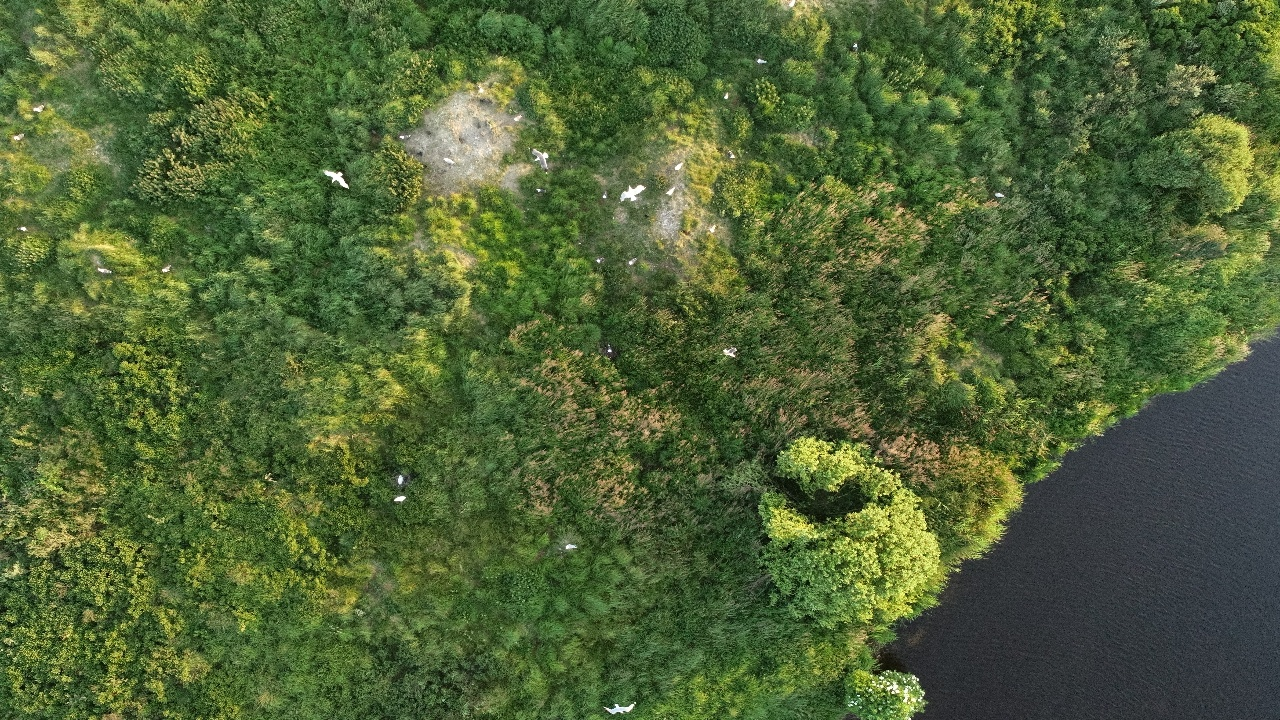Bird: (316, 162, 359, 200), (524, 141, 567, 179), (611, 176, 654, 214), (600, 691, 639, 720), (558, 537, 583, 558), (389, 488, 414, 509), (387, 471, 412, 492), (719, 343, 744, 364), (623, 253, 648, 274), (588, 248, 613, 269), (699, 217, 724, 238), (658, 181, 683, 202), (667, 156, 692, 177), (721, 145, 746, 166), (989, 185, 1014, 206), (752, 50, 777, 71), (716, 86, 741, 107), (843, 37, 868, 58), (506, 109, 531, 130), (435, 150, 460, 171), (395, 126, 420, 147), (153, 259, 178, 280), (93, 261, 118, 282), (9, 218, 34, 239), (9, 127, 34, 148), (25, 99, 50, 120), (530, 180, 555, 201), (595, 185, 620, 206), (601, 338, 626, 357)
